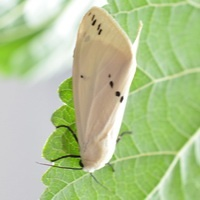insect: (41, 7, 141, 199)
